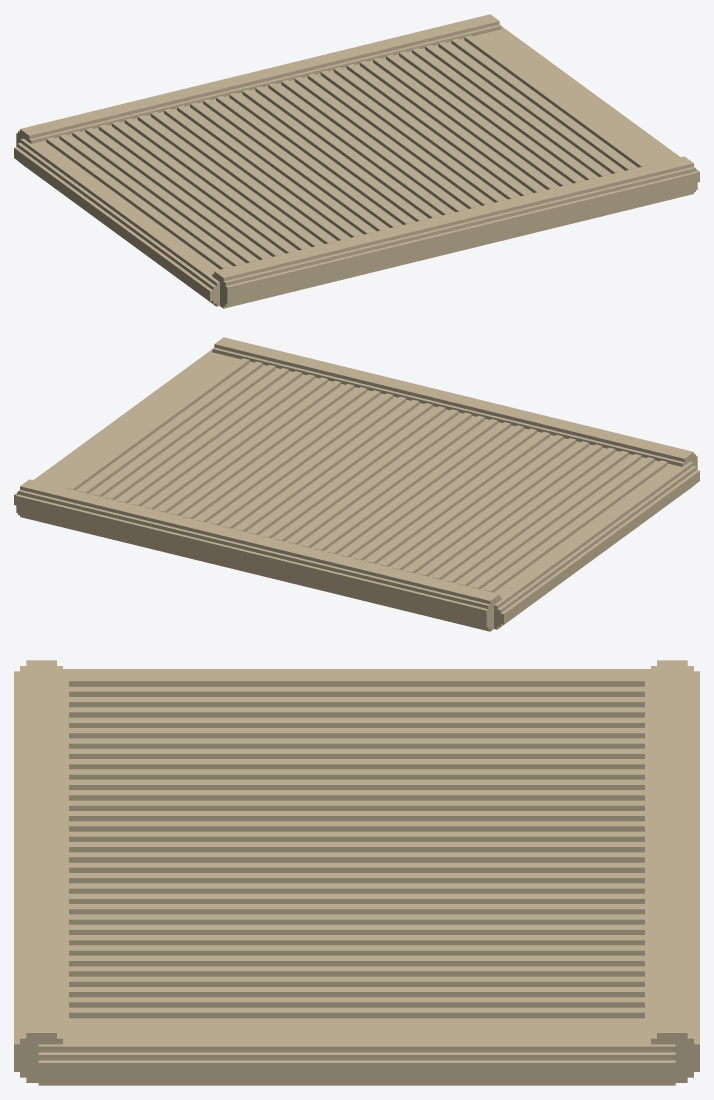
The model's file is bellyband.glb.
The picture shows the model from 3 angles, top to bottom: view 1: azimuth 30°, elevation 25°; view 2: azimuth 150°, elevation 25°; view 3: azimuth 270°, elevation 25°; orthographic projection. The views are drawn at different scales.
Parts seen in each view (by area): view 1: bellyband:compound; view 2: bellyband:compound; view 3: bellyband:compound.
Part boxes in pixels (x1,y1,x2,y2): bellyband:compound: [14, 14, 699, 308]; bellyband:compound: [14, 337, 699, 631]; bellyband:compound: [14, 660, 699, 1085].
Size of the model in its own units: 0.3 by 0.018 by 0.224.
